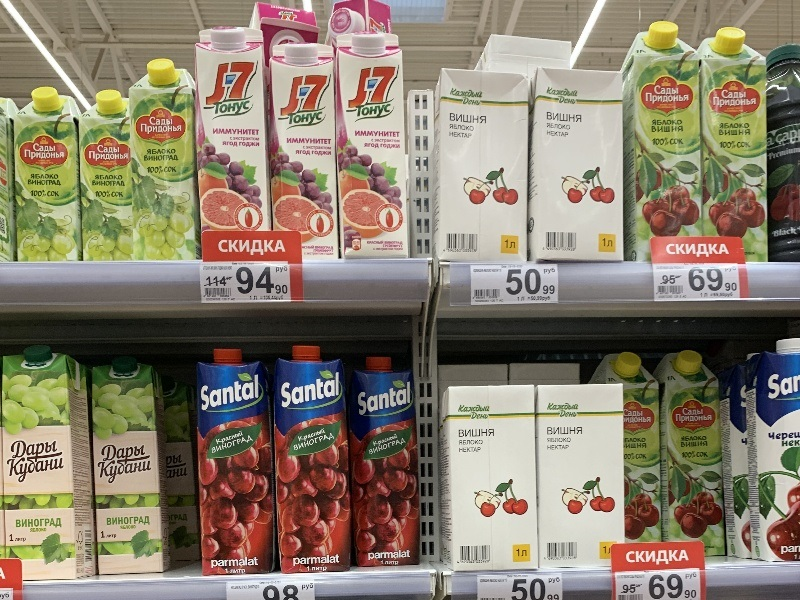juice: (1, 341, 105, 587), (189, 344, 283, 587), (86, 350, 176, 584), (269, 341, 357, 577), (329, 29, 417, 261), (342, 353, 430, 573), (619, 18, 702, 250), (187, 24, 276, 239), (269, 40, 350, 265), (124, 56, 208, 271), (698, 24, 777, 246), (11, 84, 87, 267)
